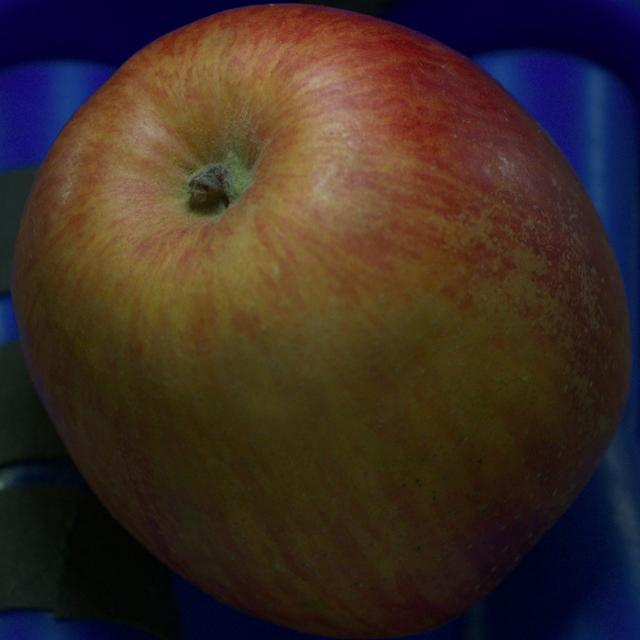apple: (11, 6, 631, 638)
